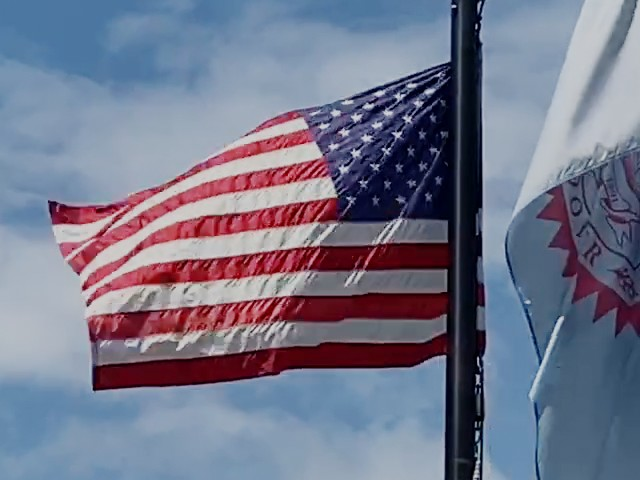America flag: (49, 58, 449, 394)
